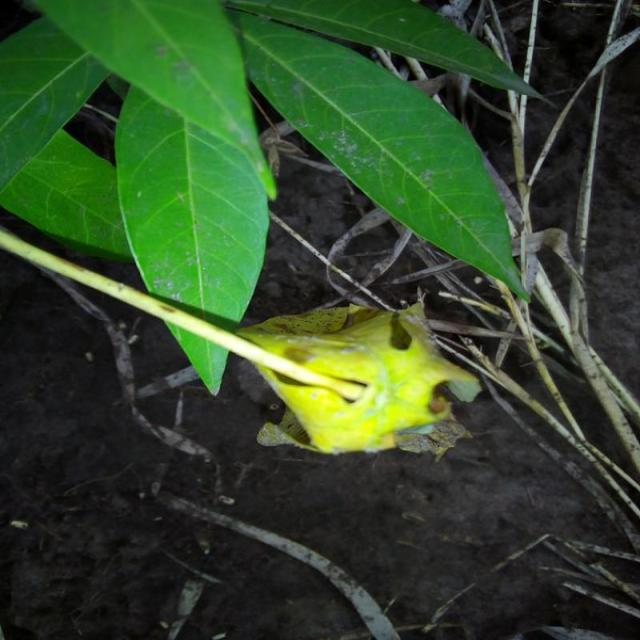cassava leaf: (226, 5, 532, 302), (112, 80, 274, 396), (25, 0, 277, 199), (232, 300, 482, 455), (222, 0, 554, 106)
